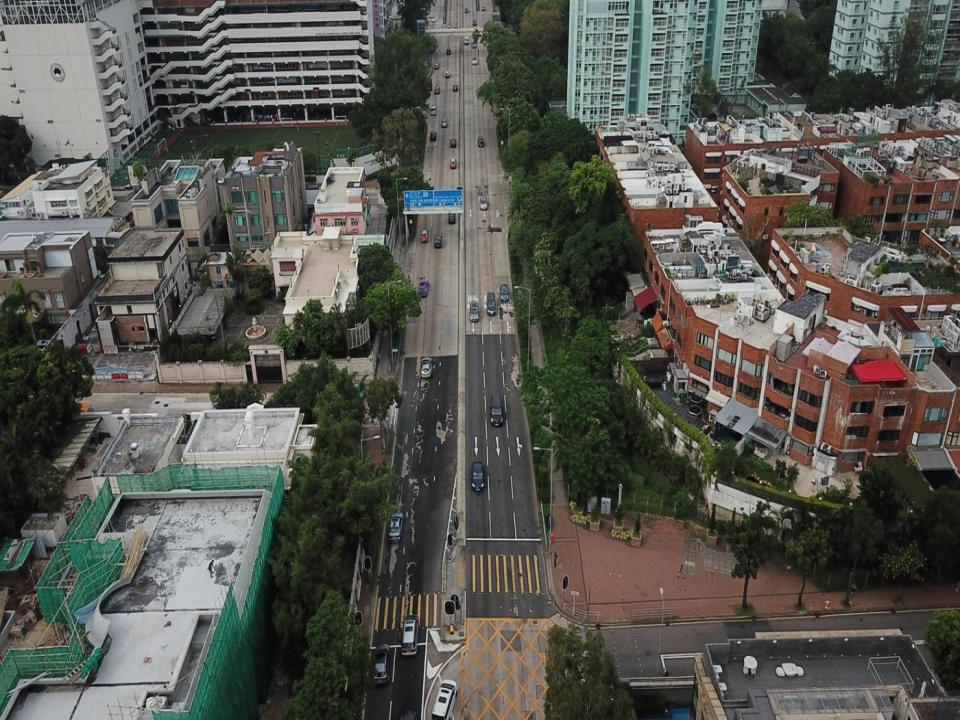car: (374, 644, 389, 684), (471, 461, 485, 492), (390, 511, 403, 541), (420, 356, 432, 377), (469, 302, 479, 324), (418, 279, 429, 298), (499, 282, 509, 302), (479, 197, 487, 211), (434, 234, 442, 248), (421, 228, 428, 243), (450, 157, 456, 169), (430, 132, 437, 142), (441, 118, 448, 127), (478, 135, 483, 147), (450, 138, 456, 147), (452, 83, 458, 92), (472, 56, 477, 66), (472, 38, 477, 48), (444, 70, 450, 78), (436, 86, 440, 95), (481, 5, 486, 12), (466, 6, 470, 14), (435, 61, 439, 69)
van: (433, 679, 458, 719), (401, 615, 418, 656), (490, 393, 504, 426), (487, 292, 496, 316), (448, 210, 456, 225), (430, 104, 436, 114), (472, 18, 478, 26), (464, 35, 469, 44), (446, 47, 450, 55)
